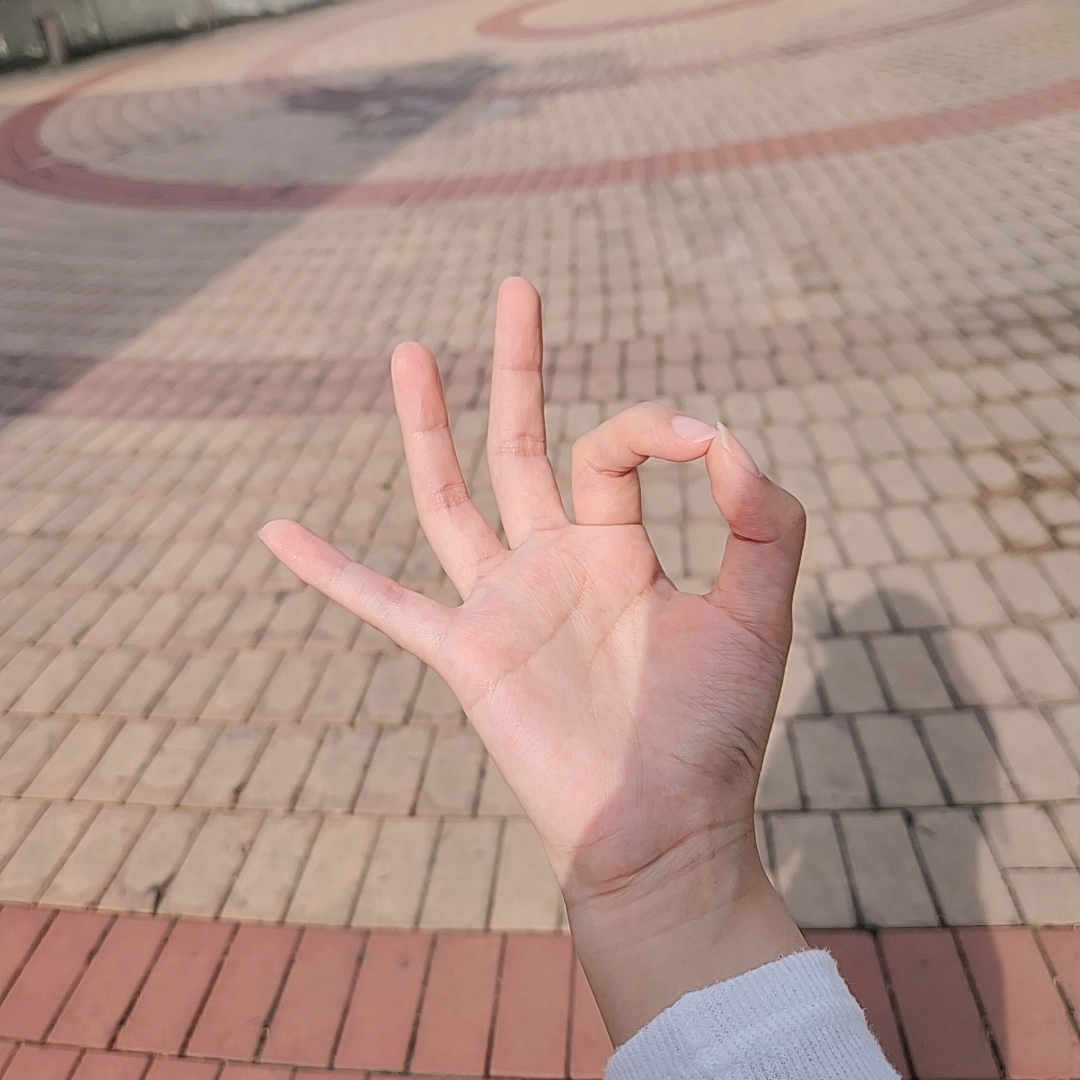see: (258, 275, 810, 841)
